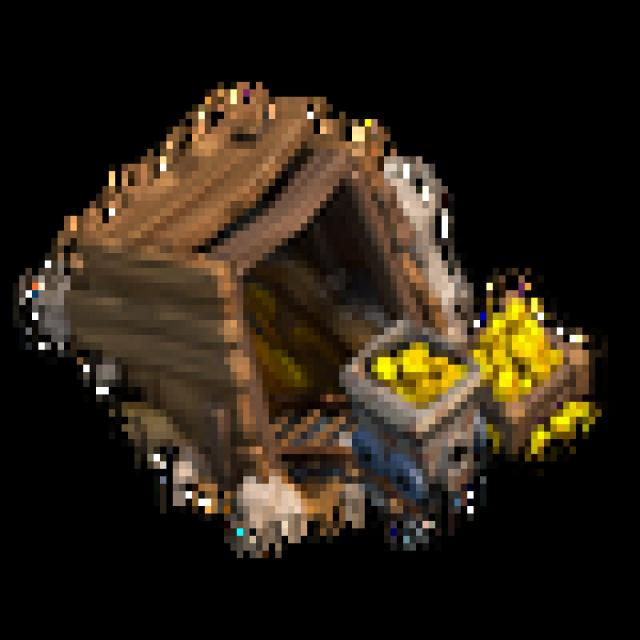gold_mine: (21, 70, 623, 596)
